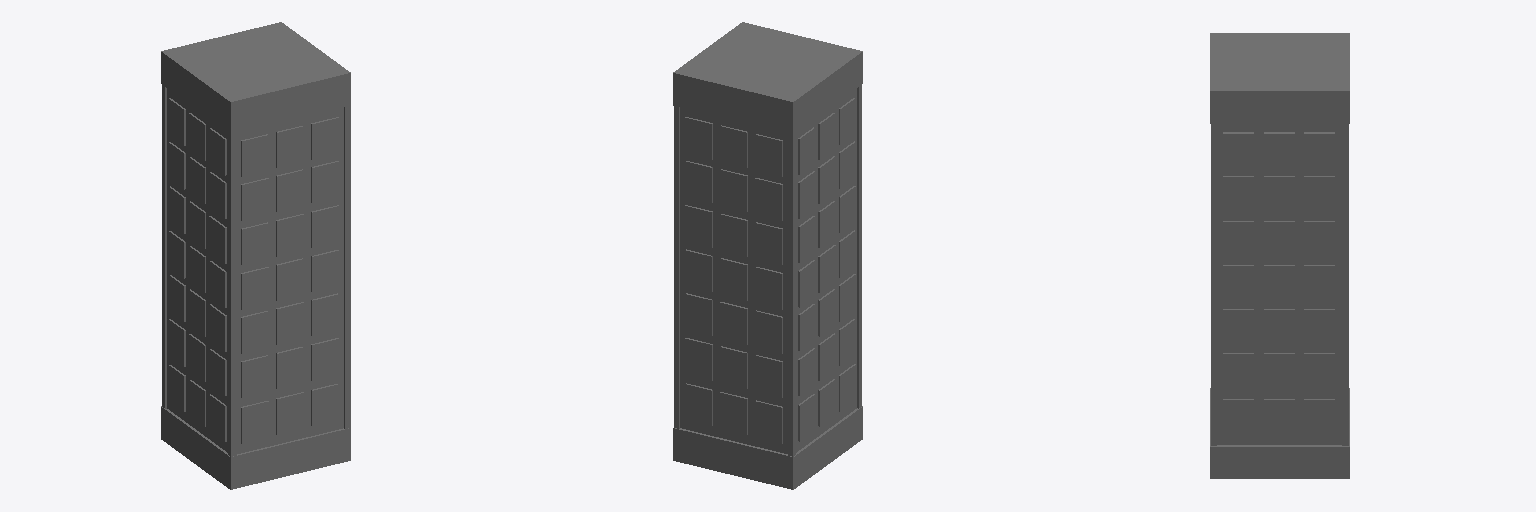
The model's file is BUILDING_TALL.obj.
3 views of the same model, side by side, from view 1: azimuth 30°, elevation 25°; view 2: azimuth 150°, elevation 25°; view 3: azimuth 270°, elevation 25° (orthographic).
Visible parts, largest first — view 1: BUILDING_TALL:polySurface1; view 2: BUILDING_TALL:polySurface1; view 3: BUILDING_TALL:polySurface1.
Part boxes in pixels (x1,y1,x2,y2): BUILDING_TALL:polySurface1: (161,22,350,489); BUILDING_TALL:polySurface1: (673,22,862,489); BUILDING_TALL:polySurface1: (1210,33,1349,478).
Size of the model in its own units: 3.45 by 10.61 by 3.45.